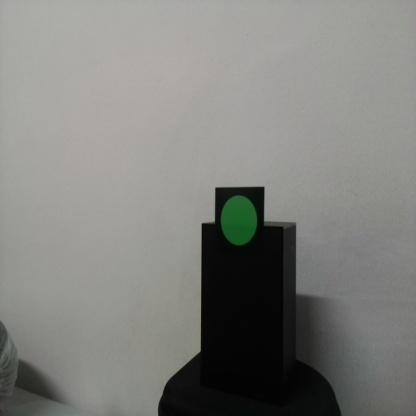id_5: (216, 188, 265, 257)
